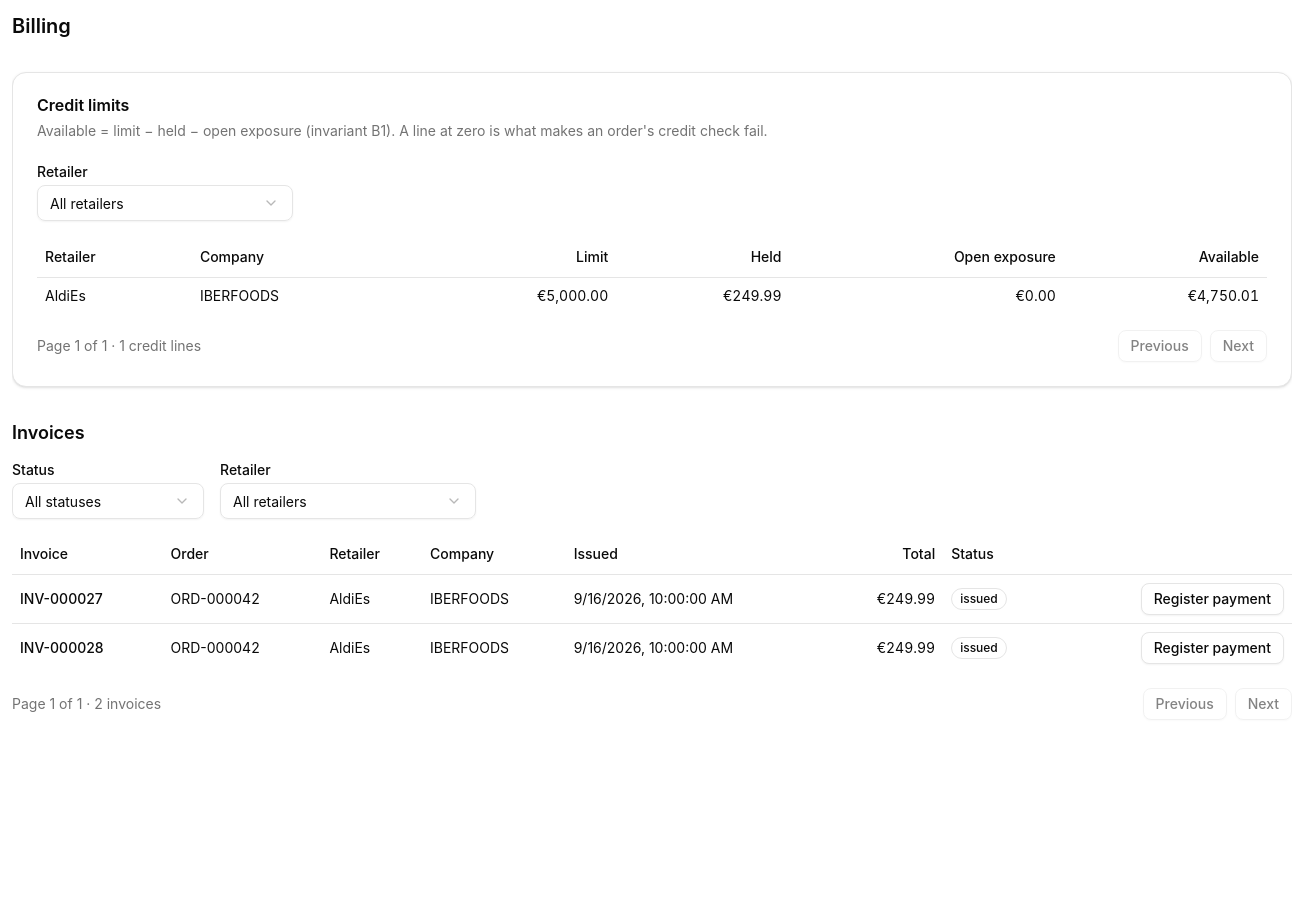
it: BillingView — Register payment (R47/R48) › a rejected remittance shows the Gateway's own words (real 422), and not on another invoice's form
This screenshot has width=1304, height=912.
Click the button with test id "register-payment-button".
click(1212, 599)  # box [1141,583,1284,615]
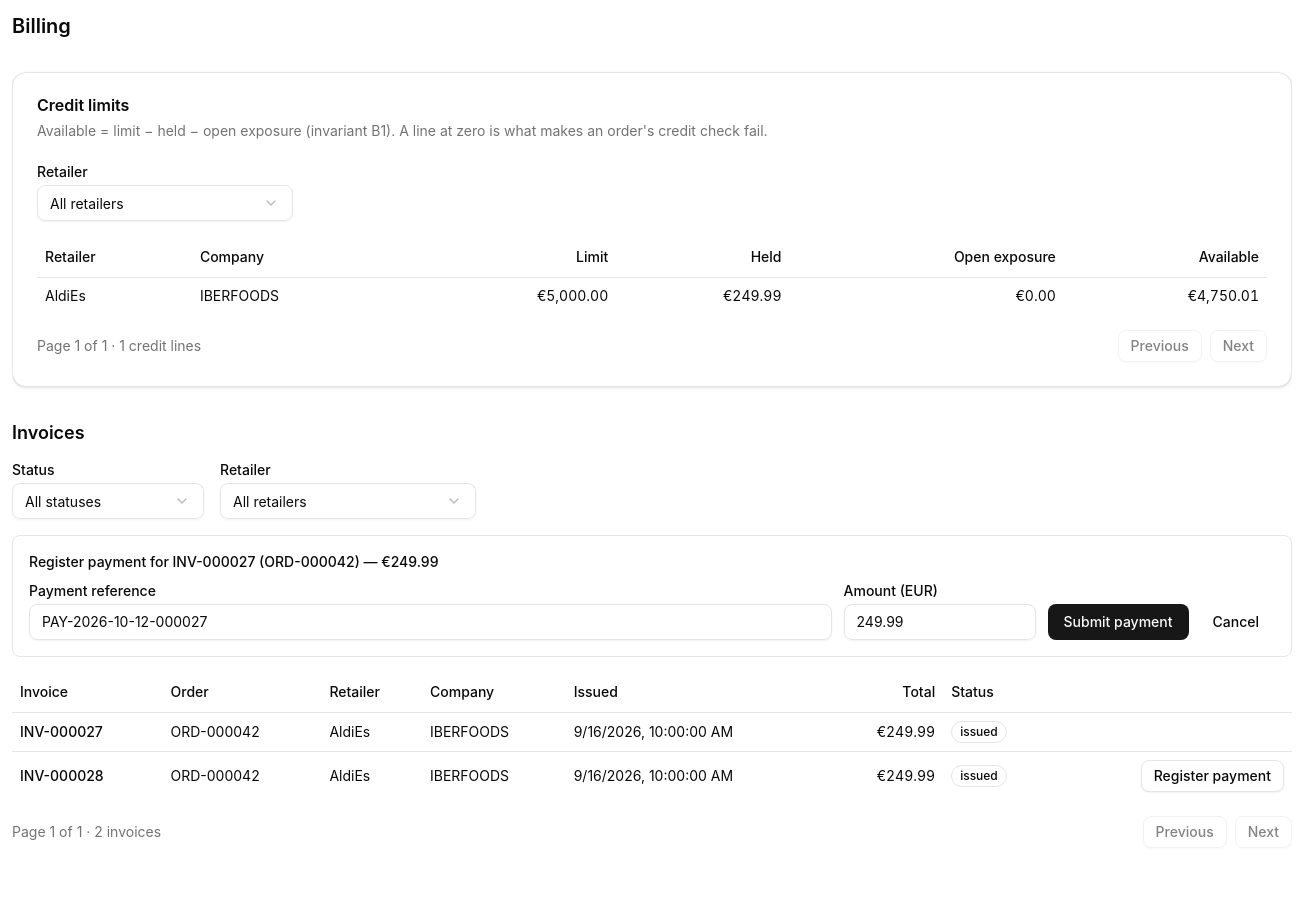
Click the button with test id "submit-payment-button".
click(1118, 622)  # box [1048,604,1188,640]
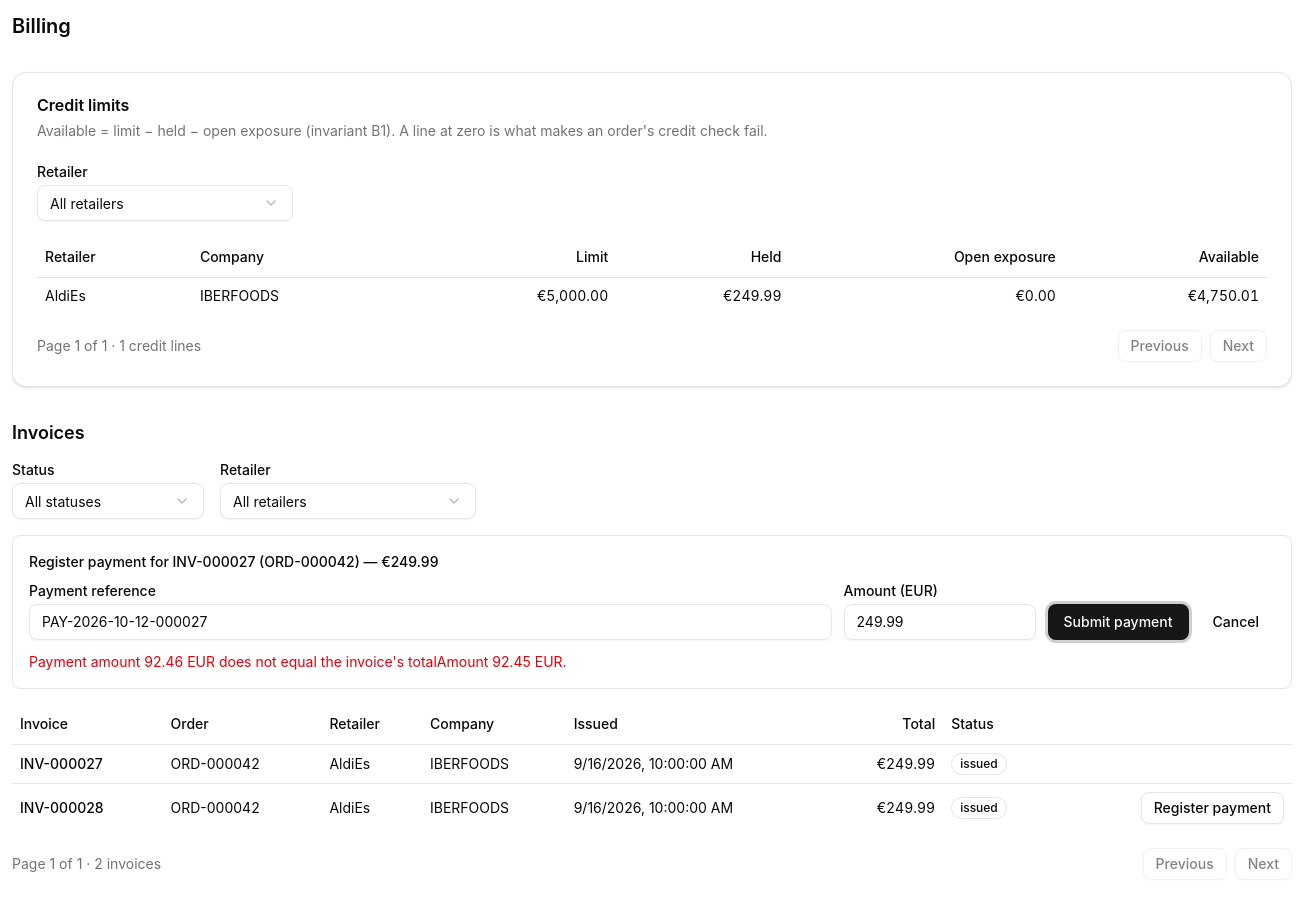
Expected: the message with test id "payment-error" reads "Payment amount 92.46 EUR does not equal the invoice's totalAmount 92.45 EUR.", [29,652,567,670]
Click the button "Cancel".
click(1236, 622)  # box [1196,604,1275,640]
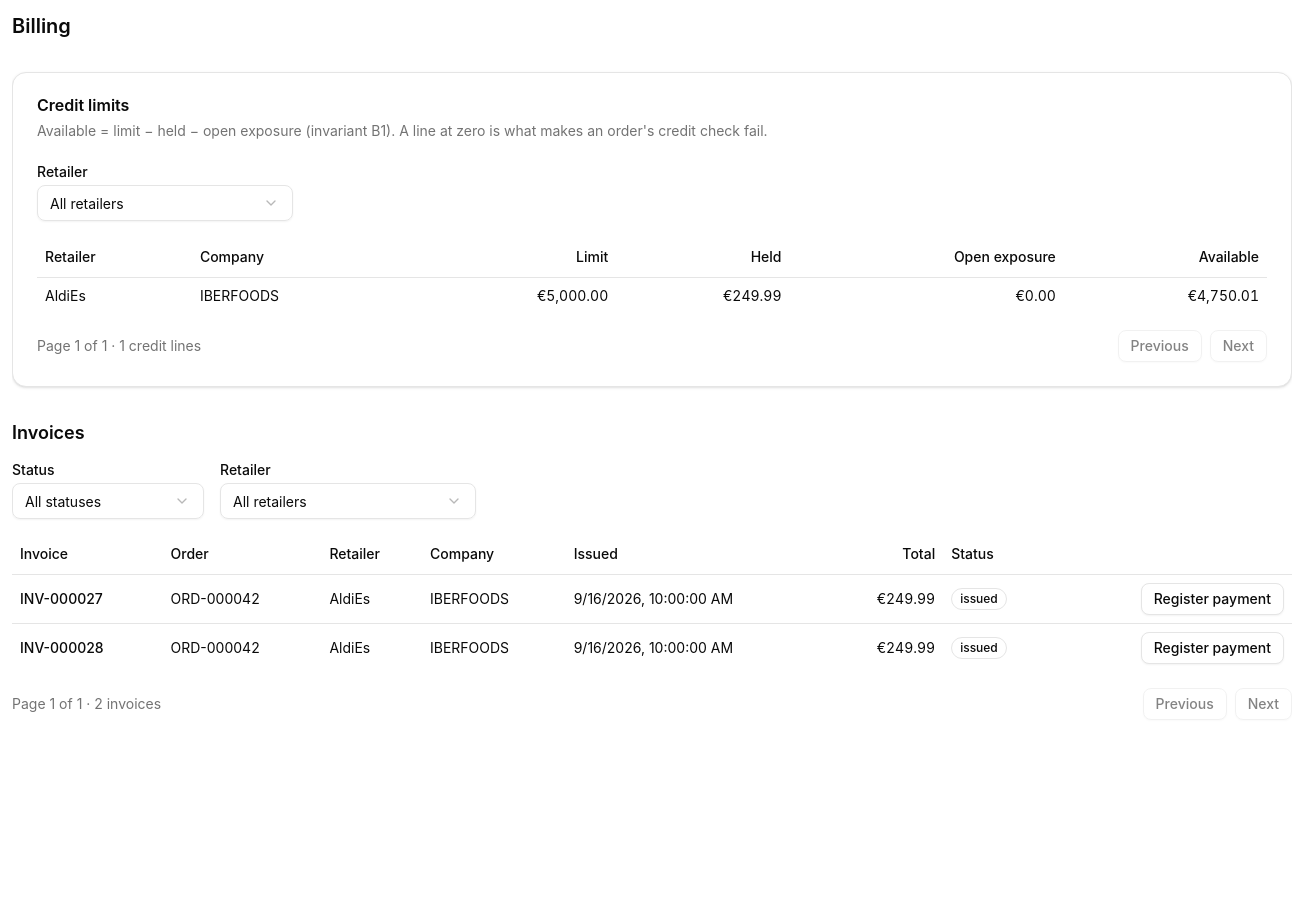
Click the button with test id "register-payment-button".
click(1212, 648)  # box [1141,632,1284,664]
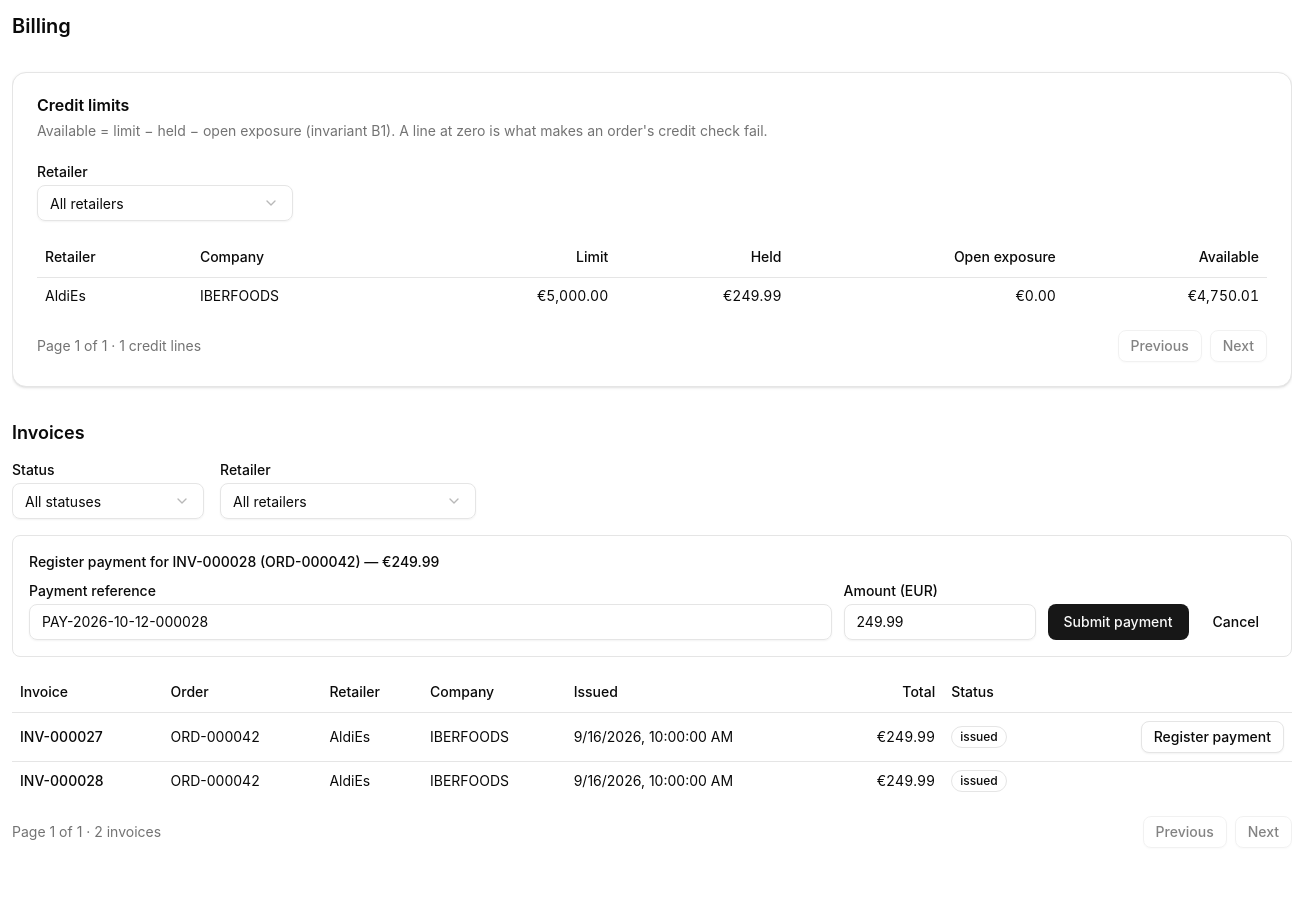
Expected: the element with test id "payment-form" is shown, [12,534,1292,656]
